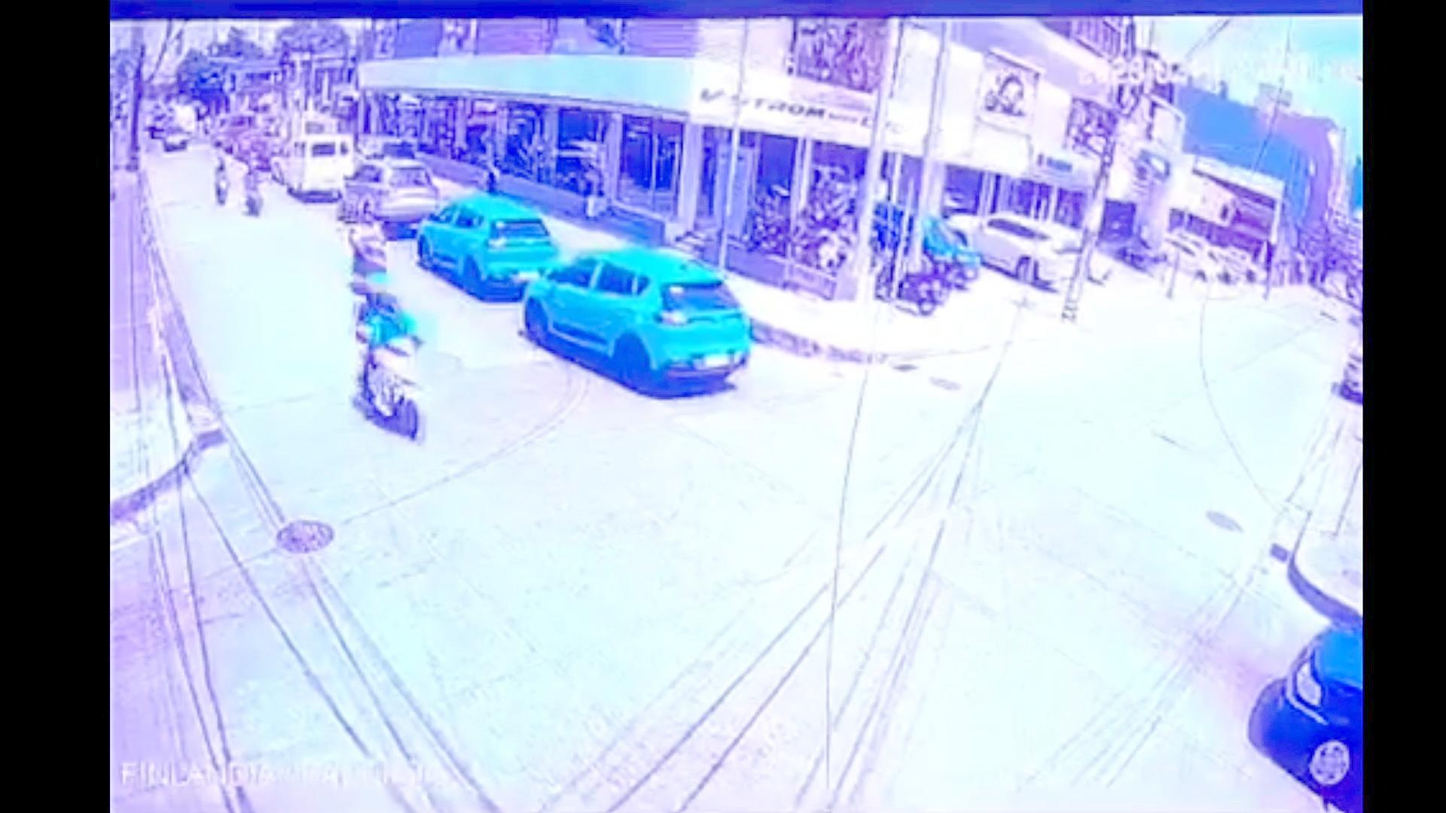Car: (526, 252, 750, 395), (1247, 611, 1363, 812), (416, 191, 560, 295), (951, 211, 1091, 286), (869, 202, 981, 291), (341, 155, 440, 227), (272, 132, 355, 200), (1160, 230, 1252, 285), (213, 115, 260, 160), (362, 137, 420, 164), (160, 120, 194, 152), (147, 112, 169, 139)
Motor: (355, 307, 426, 439), (345, 215, 400, 302), (874, 248, 942, 313), (1116, 233, 1169, 272), (210, 155, 233, 209), (242, 164, 265, 215)
